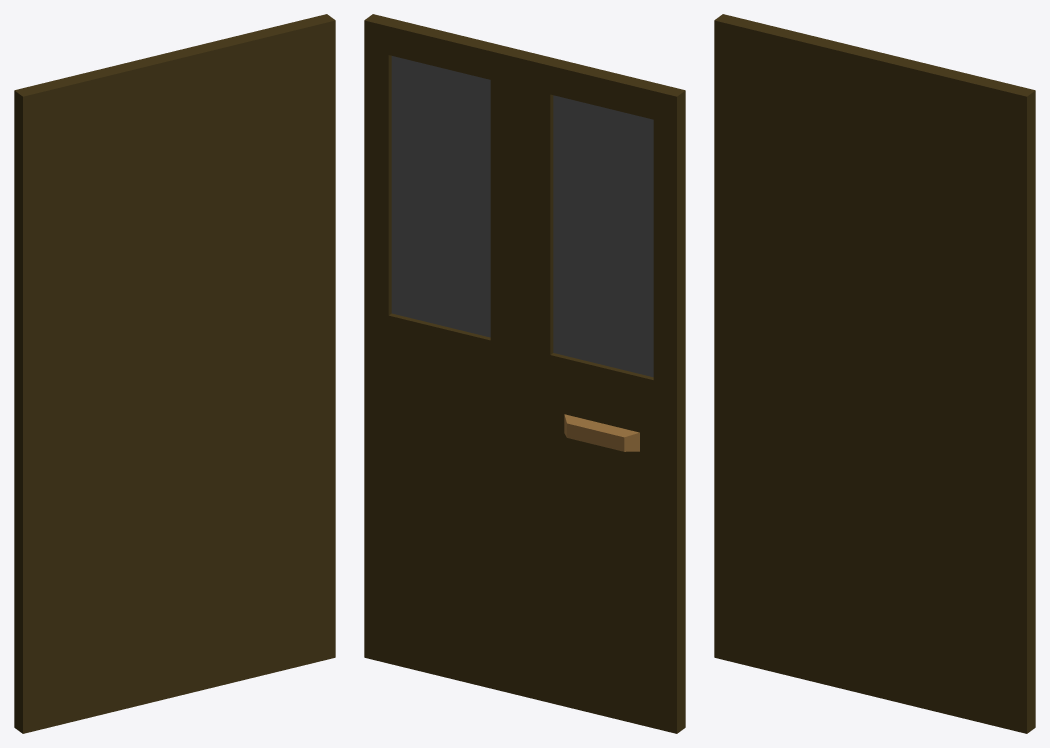
File: Door_Material.fbx
The picture shows the model from 3 angles, left to right: view 1: azimuth 30°, elevation 25°; view 2: azimuth 150°, elevation 25°; view 3: azimuth 330°, elevation 25°; orthographic projection.
Visible parts, largest first — view 1: Door; view 2: Door; view 3: Door.
Boxes of the visible parts, x1,y1,x2,y2 form: Door: (14,14,335,733); Door: (364,14,685,733); Door: (714,14,1035,733).
Size of the model in its own units: 0.7604 by 1.48 by 0.0641.
